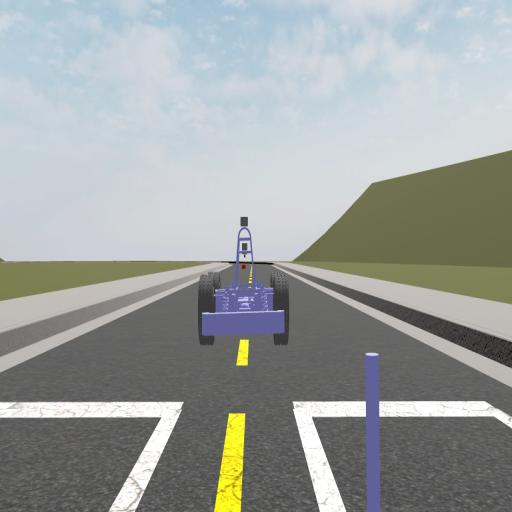ERP-42: (196, 216, 288, 345)
